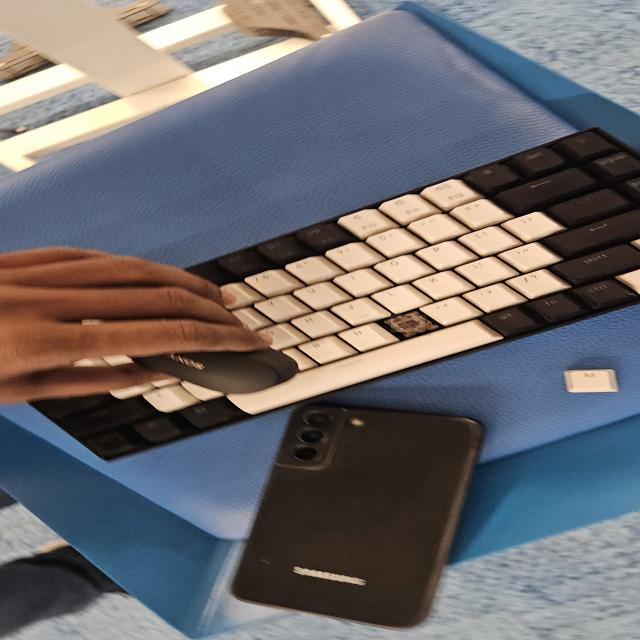C: (395, 318, 431, 336), (392, 314, 426, 332)
